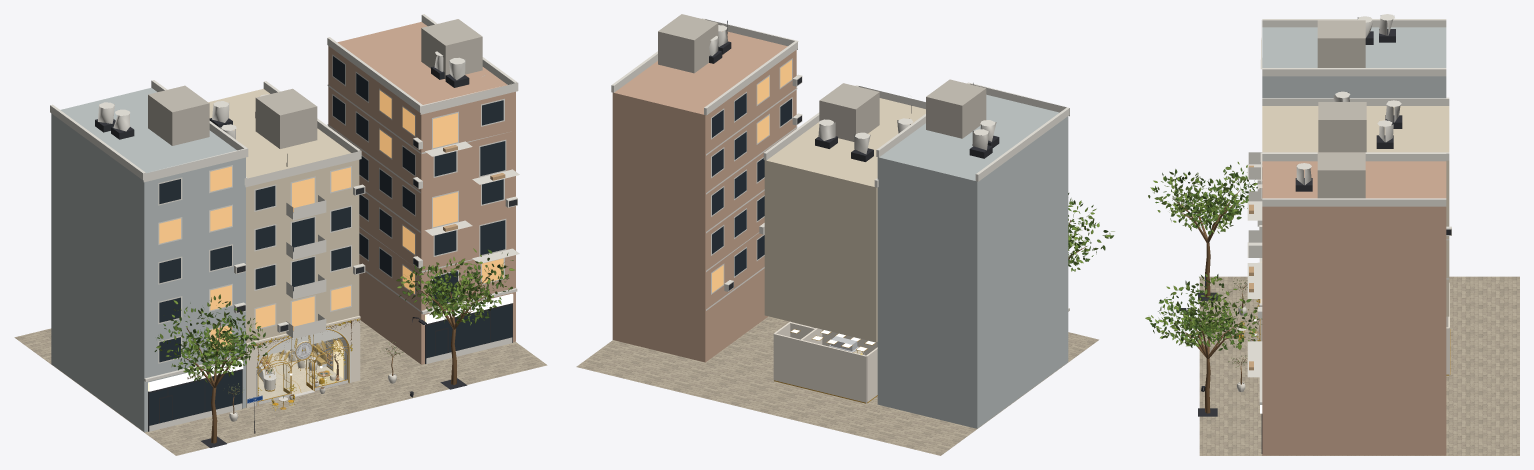
File: maison-100_lod2.glb
3 renders of one model, left to right at view 1: azimuth 30°, elevation 25°; view 2: azimuth 150°, elevation 25°; view 3: azimuth 270°, elevation 25°, orthographic.
Parts seen in each view (by area): view 1: bw6, bw5, bwtrim, win, paving, facade_hi, bw3, win_lit_n, leaf, leaf2, iron, facade (+5 smaller); view 2: bw6, bw5, facade_hi, paving, bwtrim, bw3, plaster, win, iron, win_lit_n, leaf; view 3: bw5, paving, bwtrim, bw6, bw3, facade_hi, leaf, leaf2, trunk, iron.
Part boxes in pixels (x1=…): bw6: x1=51, y1=87, x2=245, y2=432; bw5: x1=328, y1=22, x2=515, y2=364; bwtrim: x1=50, y1=14, x2=519, y2=431; win: x1=149, y1=56, x2=512, y2=425; paving: x1=14, y1=320, x2=547, y2=455; facade_hi: x1=208, y1=89, x2=359, y2=343; bw3: x1=148, y1=19, x2=482, y2=148; win_lit_n: x1=159, y1=90, x2=503, y2=348; leaf: x1=156, y1=248, x2=514, y2=383; leaf2: x1=154, y1=249, x2=513, y2=397; iron: x1=95, y1=66, x2=517, y2=447; facade: x1=246, y1=315, x2=360, y2=407; bw6: x1=877, y1=94, x2=1068, y2=428; bw5: x1=612, y1=31, x2=796, y2=362; facade_hi: x1=764, y1=98, x2=925, y2=342; paving: x1=576, y1=316, x2=1098, y2=455; bwtrim: x1=611, y1=18, x2=1069, y2=311; bw3: x1=658, y1=14, x2=986, y2=141; plaster: x1=773, y1=321, x2=877, y2=403; win: x1=712, y1=93, x2=791, y2=275; iron: x1=709, y1=20, x2=999, y2=290; win_lit_n: x1=712, y1=60, x2=791, y2=292; leaf: x1=1068, y1=200, x2=1114, y2=271; bw5: x1=1262, y1=161, x2=1446, y2=455; paving: x1=1199, y1=276, x2=1519, y2=455; bwtrim: x1=1247, y1=14, x2=1451, y2=404; bw6: x1=1262, y1=27, x2=1446, y2=98; bw3: x1=1317, y1=20, x2=1366, y2=198; facade_hi: x1=1262, y1=106, x2=1449, y2=316; leaf: x1=1145, y1=162, x2=1261, y2=349; leaf2: x1=1148, y1=165, x2=1258, y2=350; trunk: x1=1172, y1=189, x2=1259, y2=413; iron: x1=1176, y1=29, x2=1451, y2=453.
Bounding box in the file's own units: 30.66 × 22.09 × 26.49.
69 materials, 19 textured.
